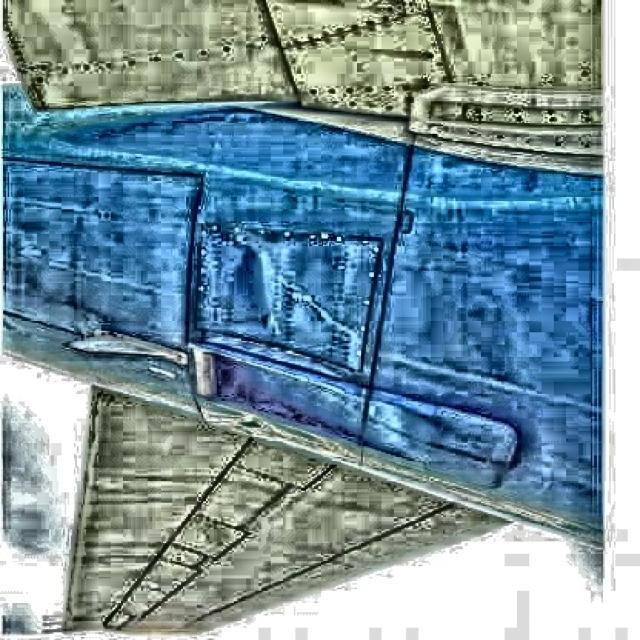dent: (229, 252, 303, 352)
